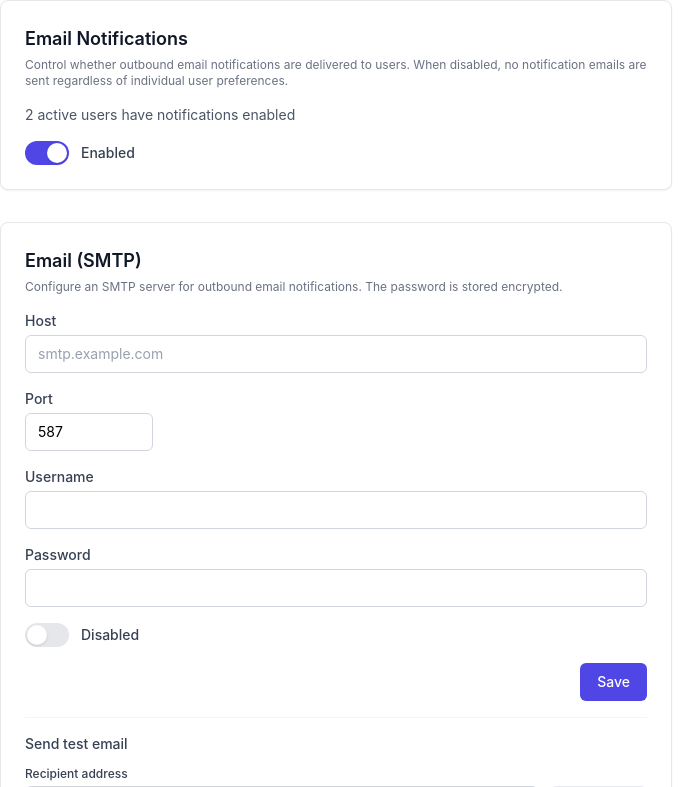
Test: NotificationSettings — email notifications toggle › shows success after toggling notifications
What coordinates should you click on to do the following:
click the switch with test id "email-notif-toggle"
I would click on:
 (47, 153)
Its box is left=25, top=141, right=69, bottom=165.
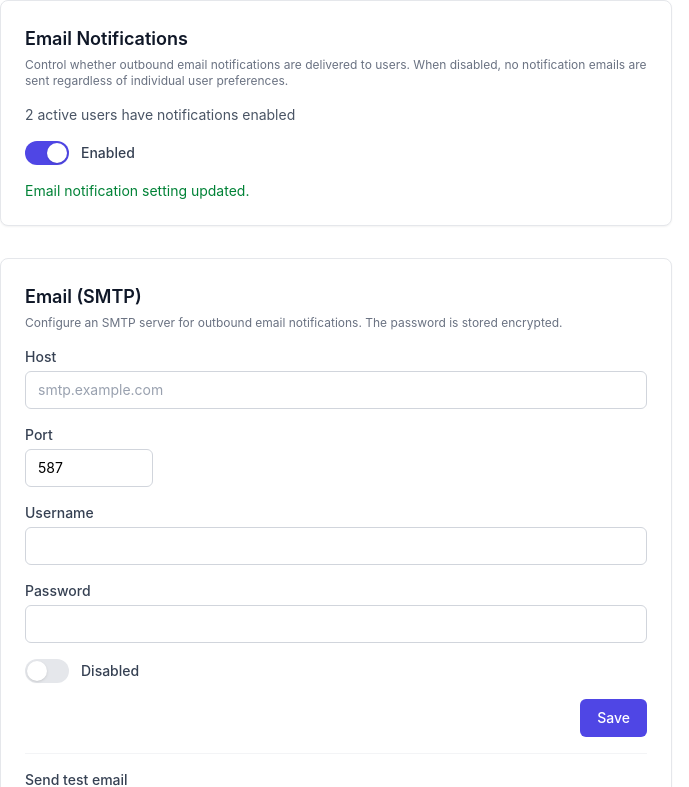
expect the message "Email notification setting updated." is shown: met, box left=25, top=182, right=249, bottom=199
